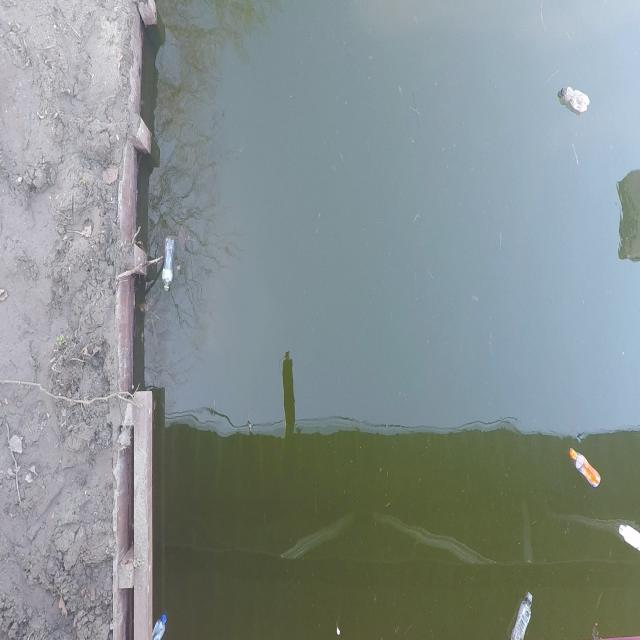Bouteille plastique: (565, 445, 604, 493), (508, 585, 536, 640), (159, 227, 180, 297), (556, 82, 595, 119)
